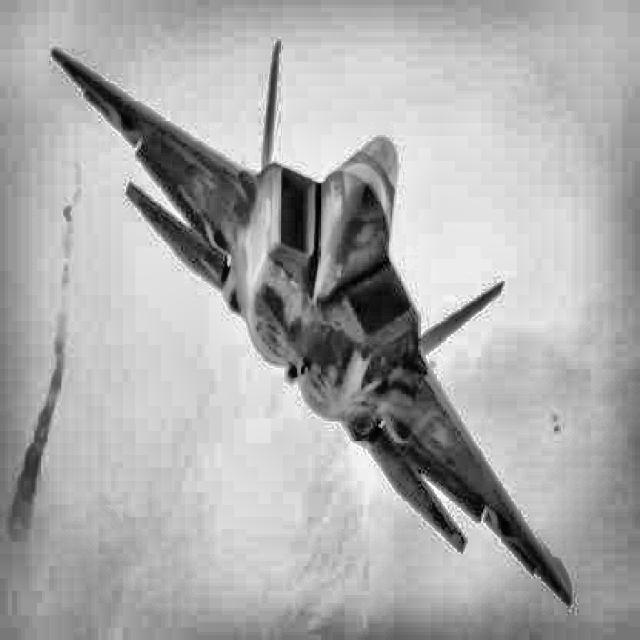F22: (51, 37, 572, 606)
